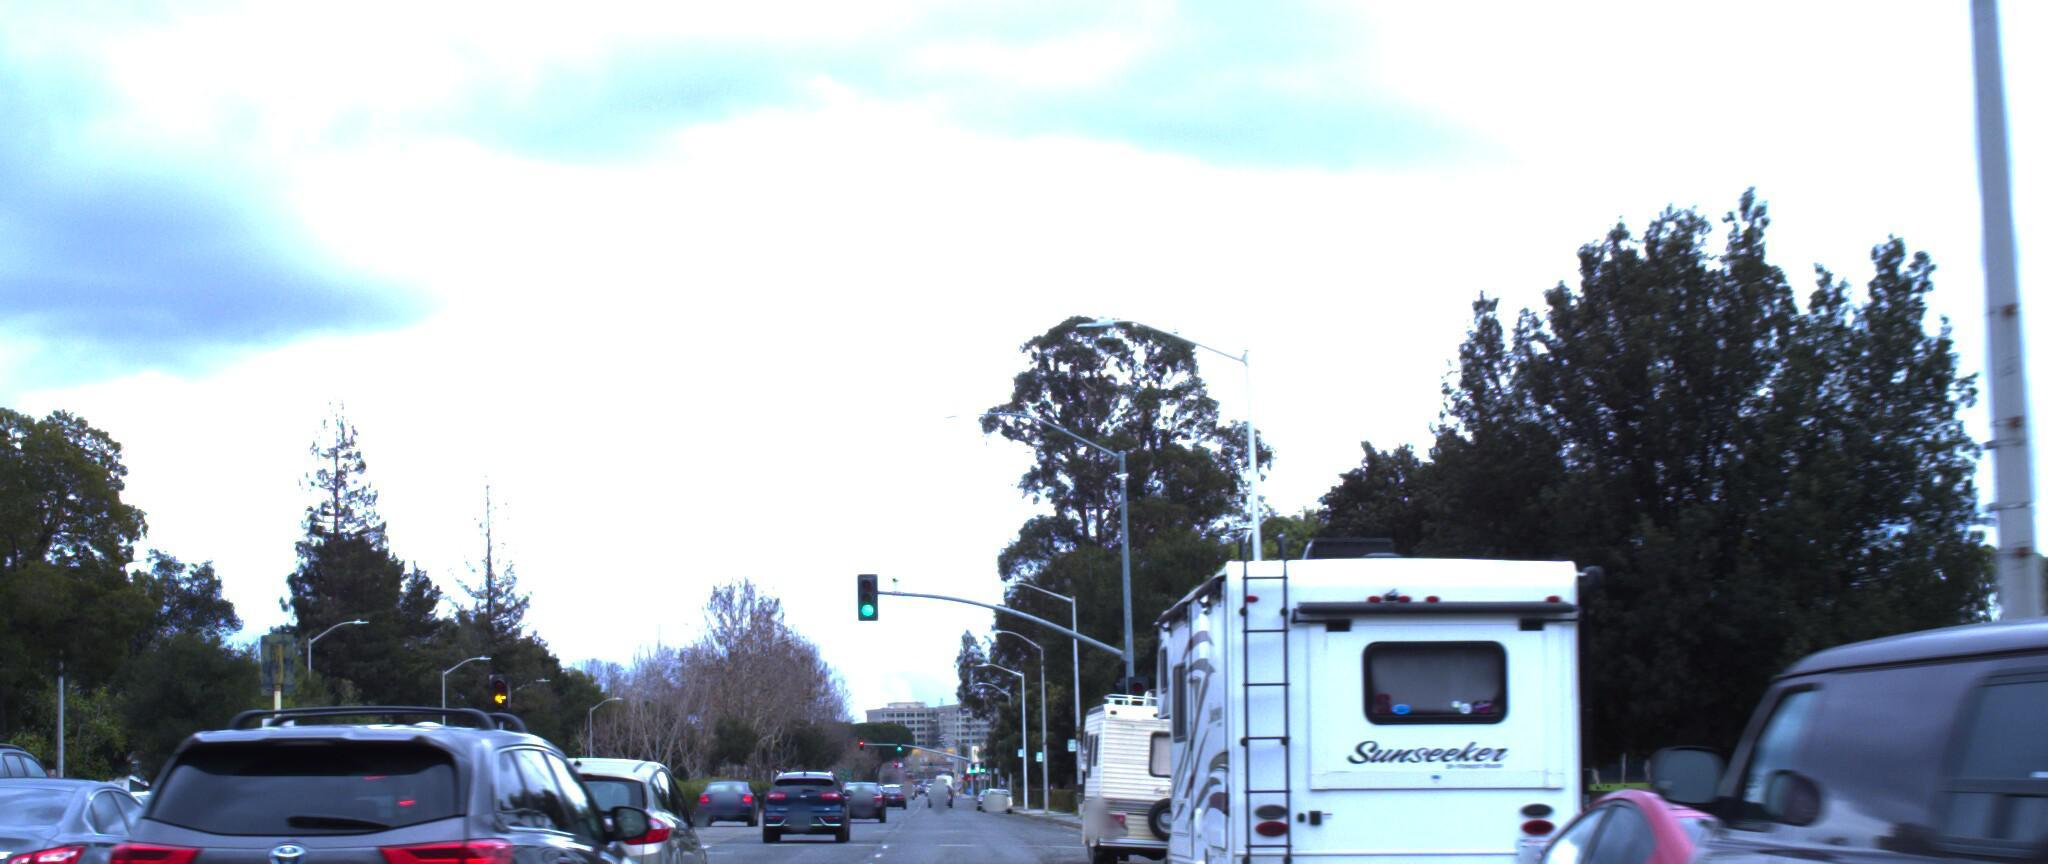car: (1607, 512, 2048, 864), (52, 700, 675, 864), (1442, 753, 2048, 864), (485, 760, 742, 864), (0, 770, 225, 864), (0, 733, 124, 864), (764, 773, 858, 844)
other_vehicle: (1143, 516, 1620, 864), (1078, 683, 1264, 864)
